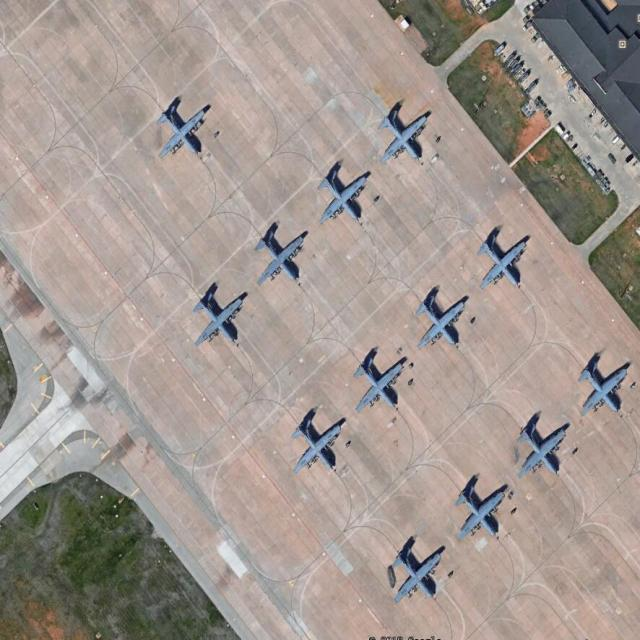fighter jet: (145, 84, 208, 171), (371, 98, 435, 178), (246, 217, 308, 294), (288, 406, 348, 483), (512, 409, 566, 492), (192, 278, 248, 354), (577, 354, 630, 433), (478, 218, 528, 300), (390, 536, 442, 613), (313, 156, 364, 234), (453, 475, 505, 551), (356, 341, 404, 415), (408, 297, 464, 360)
